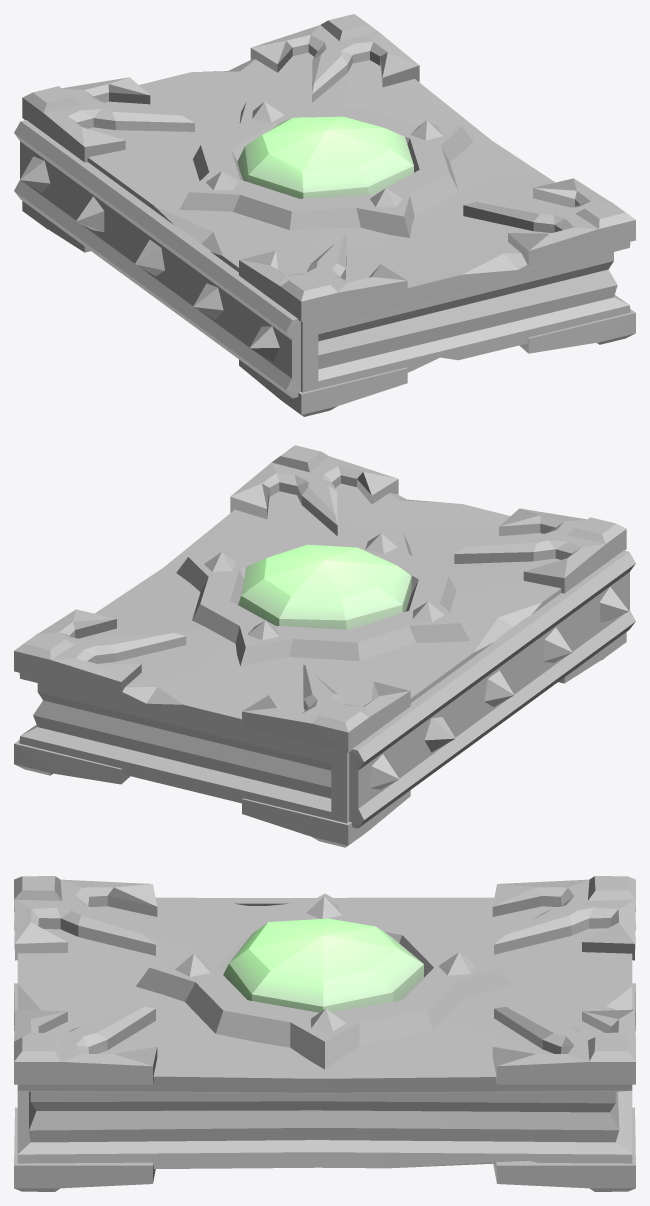
File: SM_Prop_Book_03.fbx
3 renders of one model, top to bottom at view 1: azimuth 30°, elevation 25°; view 2: azimuth 150°, elevation 25°; view 3: azimuth 270°, elevation 25°, orthographic. The views are drawn at different scales.
Visible parts, largest first — view 1: SM_Prop_Book_03; view 2: SM_Prop_Book_03; view 3: SM_Prop_Book_03.
Boxes of the visible parts, box(x1,y1,x2,y2) form: SM_Prop_Book_03: box(14, 14, 635, 416); SM_Prop_Book_03: box(14, 445, 635, 847); SM_Prop_Book_03: box(14, 876, 635, 1191).
Size of the model in its own units: 38.79 by 15.32 by 51.75.
